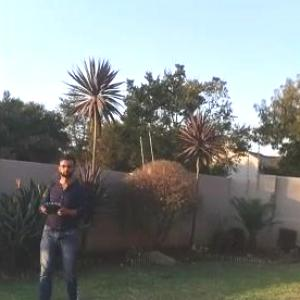follow: (29, 143, 89, 299)
